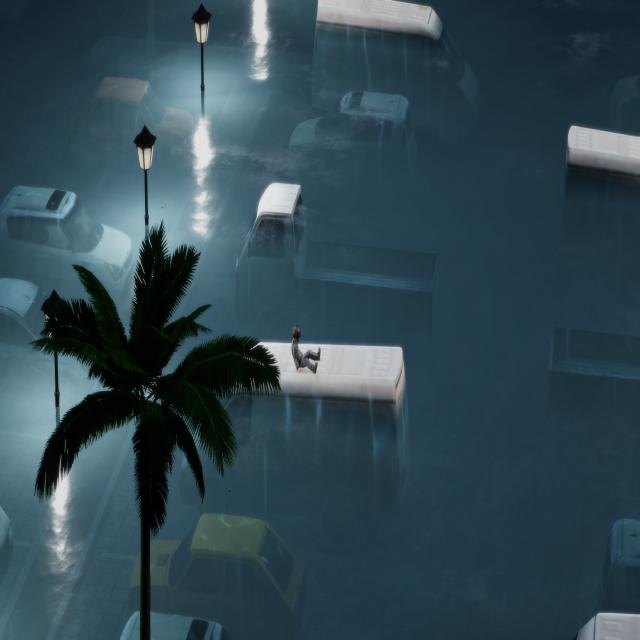Human: (283, 319, 324, 382)
